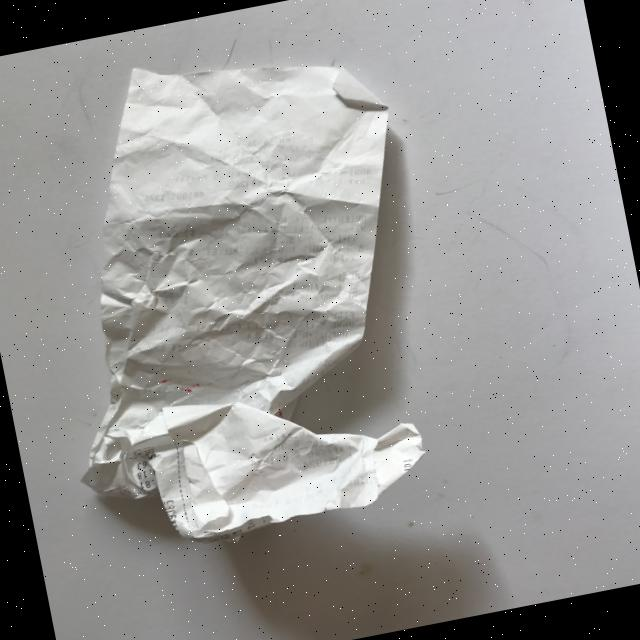paper: (6, 21, 464, 564)
